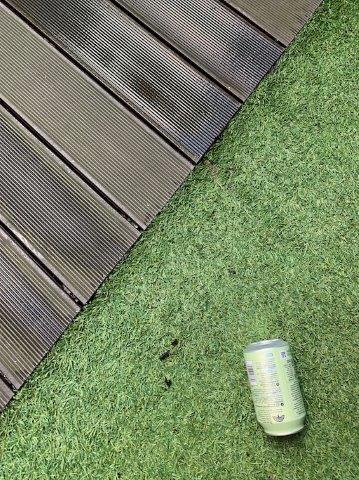kaleng: (244, 338, 306, 436)
